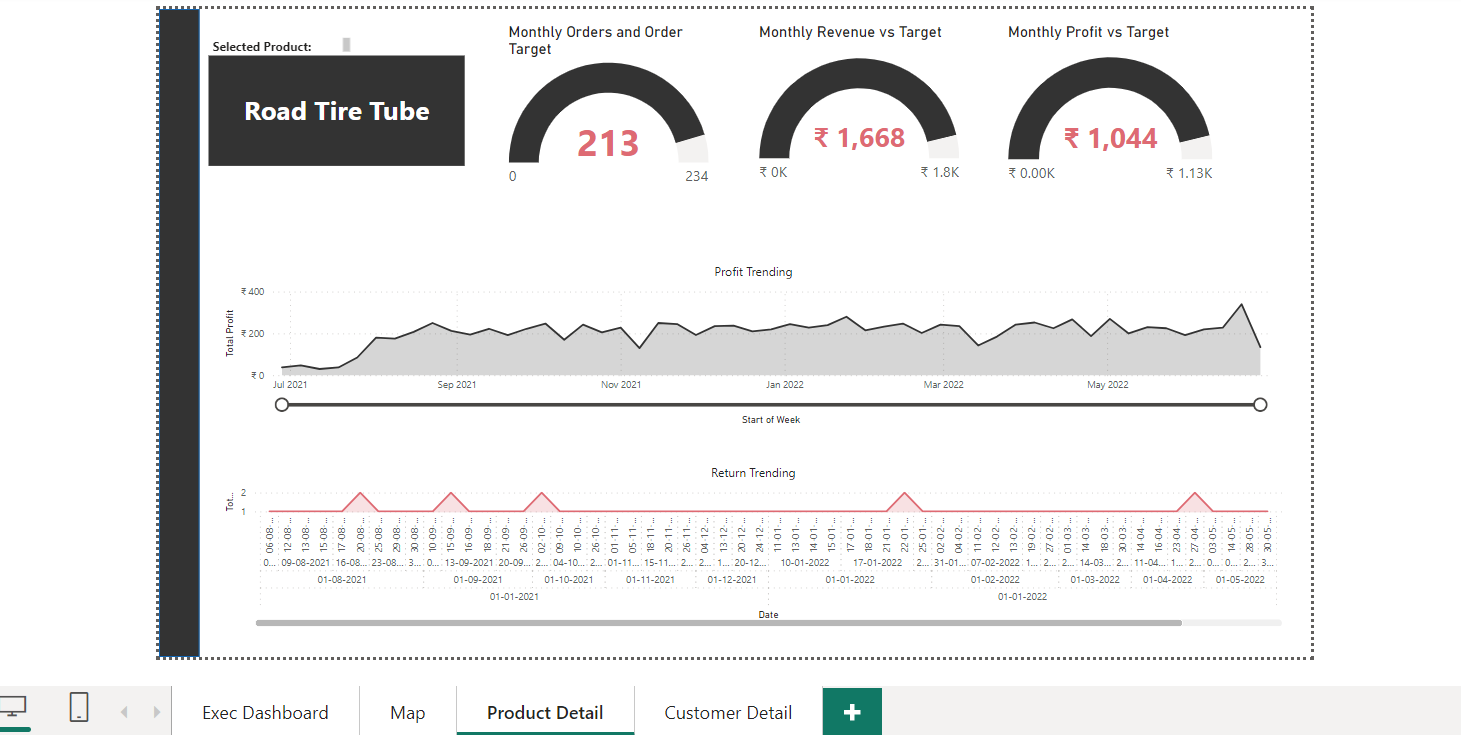

The page's visual inventory and layout, read from the dashboard file:
{"tool":"powerbi","page":{"name":"Product Detail","canvas":[1280,720],"ordinal":2},"visuals":[{"type":"shape","box":[0,0,45,720],"z":0},{"type":"gauge","title":"Monthly Orders and Order Target","fields":{"Y":["Measure Table.Total Orders"],"MaxValue":["Measure Table.Order Target"]},"box":[383,14.3,232.1,192.3],"z":1000},{"type":"gauge","title":"Monthly Revenue vs Target","fields":{"Y":["Measure Table.Total Revenue"],"MaxValue":["Measure Table.Revenue Target"]},"box":[661.2,14.3,232.1,201.9],"z":2000},{"type":"gauge","title":"Monthly Profit vs Target","fields":{"Y":["Measure Table.Total Profit"],"MaxValue":["Measure Table.Profit Target"]},"box":[937.7,14.3,236.8,201.9],"z":3000},{"type":"areaChart","title":"Profit Trending","fields":{"Y":["Measure Table.Total Profit"],"Category":["Calendar Lookup.Date Hierarchy.Start of Year","Calendar Lookup.Date Hierarchy.Start of Month","Calendar Lookup.Date Hierarchy.Start of Week","Calendar Lookup.Date Hierarchy.Date"]},"box":[68.3,281.3,1184.1,186],"z":4000},{"type":"areaChart","title":"Return Trending","fields":{"Y":["Measure Table.Total Returns"],"Category":["Calendar Lookup.Date Hierarchy.Start of Year","Calendar Lookup.Date Hierarchy.Start of Month","Calendar Lookup.Date Hierarchy.Start of Week","Calendar Lookup.Date Hierarchy.Date"]},"box":[68.3,505.4,1184.1,186],"z":5000},{"type":"card","fields":{"Values":["Min(Product Lookup.ProductName)"]},"box":[55.6,51.3,284.5,122.4],"z":6000},{"type":"textbox","box":[55.6,25.9,162.1,25.4],"z":7000}]}

Visuals, with their boxes on the page's 1280x720 design canvas (x1, y1, x2, y2). These are canvas units, not pixel positions in the 1461x735 screenshot, which may show the page scaled, cropped or inside an application window:
shape: <bbox>0, 0, 45, 720</bbox>
"Monthly Orders and Order Target" gauge: <bbox>383, 14, 615, 207</bbox>
"Monthly Revenue vs Target" gauge: <bbox>661, 14, 893, 216</bbox>
"Monthly Profit vs Target" gauge: <bbox>938, 14, 1174, 216</bbox>
"Profit Trending" areaChart: <bbox>68, 281, 1252, 467</bbox>
"Return Trending" areaChart: <bbox>68, 505, 1252, 691</bbox>
card - Min(Product Lookup.ProductName): <bbox>56, 51, 340, 174</bbox>
textbox: <bbox>56, 26, 218, 51</bbox>
